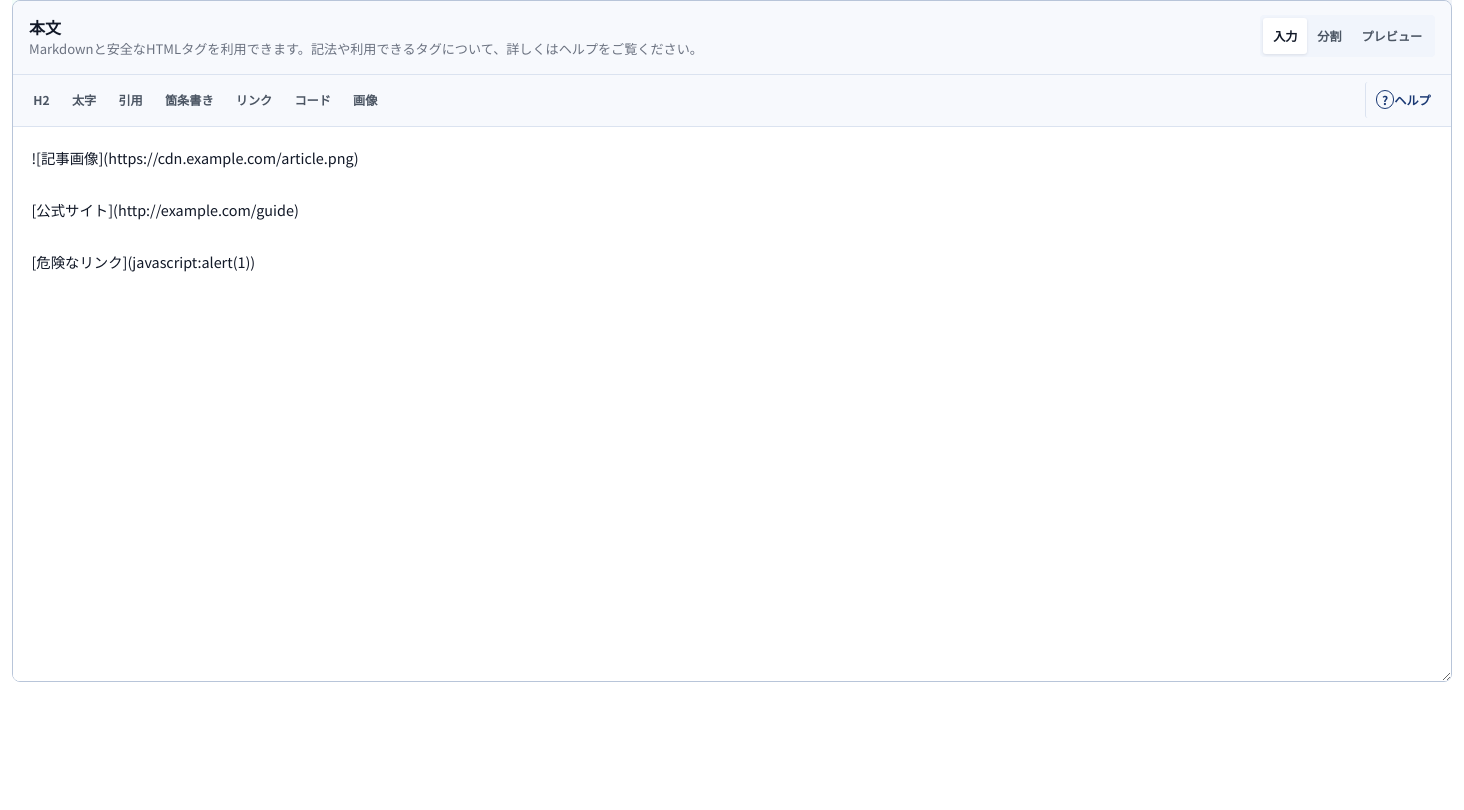
Scenario: ArticleEditor › keeps HTTP image and link previews while rejecting non-HTTP destinations
The width and height of the screenshot is (1464, 810).
What coordinates should you click on to do the following:
click the button "プレビュー"
I would click on:
 (1392, 36)
Its box is [1352,18,1432,54].
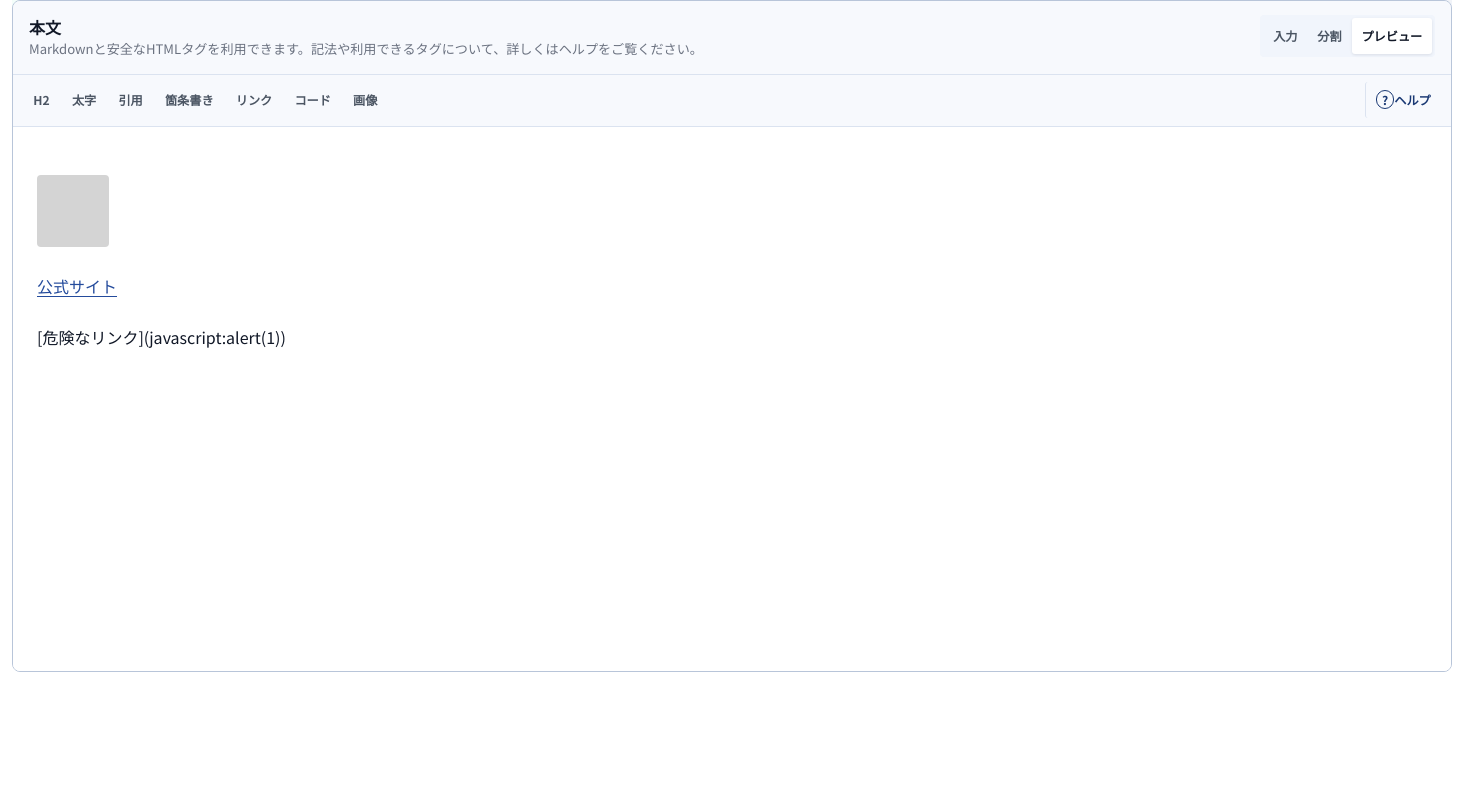
Now the text "[危険なリンク](javascript:alert(1))" is shown, box [37,325,286,349]
